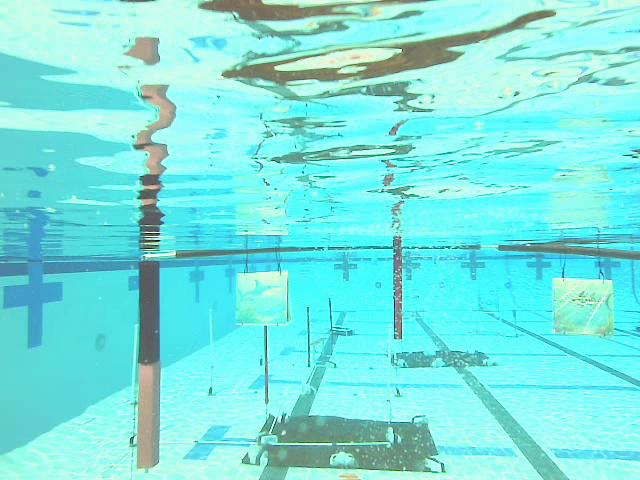black_poster: (306, 307, 311, 366), (329, 298, 333, 344)
divider: (393, 249, 401, 338)
left_gate_poster: (137, 262, 158, 468)
shark: (234, 273, 291, 327)
swordfish: (552, 278, 612, 342)
white_poster: (131, 325, 138, 446), (208, 308, 214, 395)
